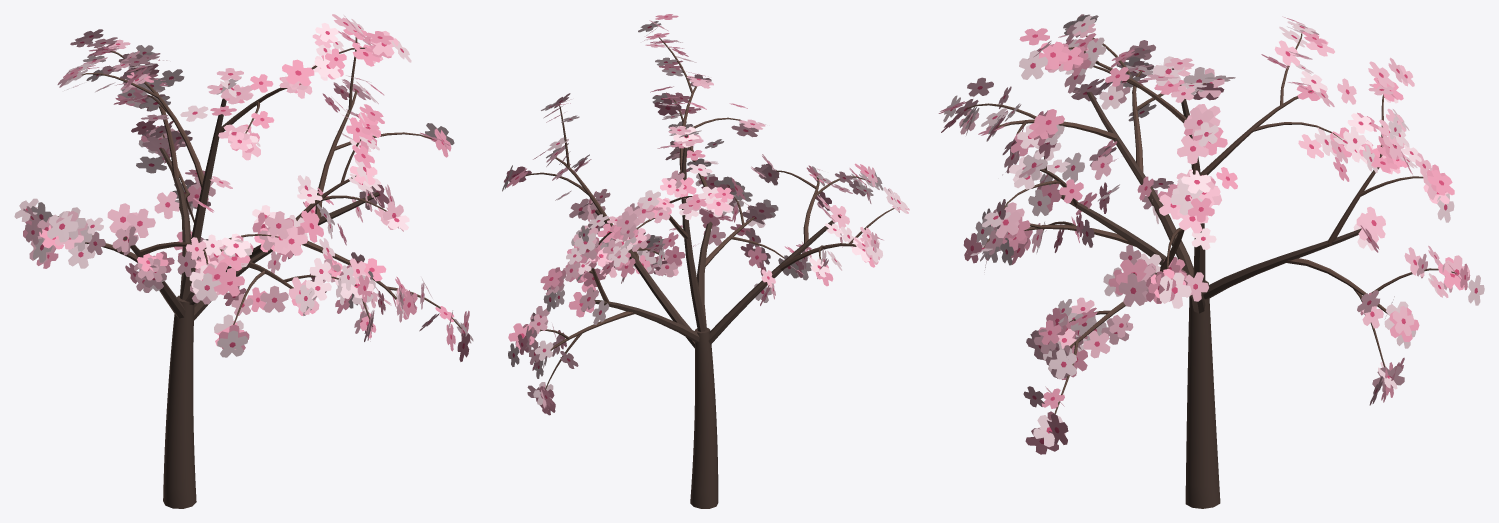
3 renders of one model, left to right at view 1: azimuth 30°, elevation 25°; view 2: azimuth 150°, elevation 25°; view 3: azimuth 270°, elevation 25°, orthographic. The views are drawn at different scales.
Parts seen in each view (by area): view 1: body; view 2: body; view 3: body.
Part boxes in pixels (x1,y1,x2,y2): body: (14, 14, 473, 508); body: (502, 14, 909, 508); body: (938, 14, 1484, 508).
Bounding box in the file's own units: 0.9084 × 0.9712 × 0.902.
Materials: 1 (1 with a texture image).
